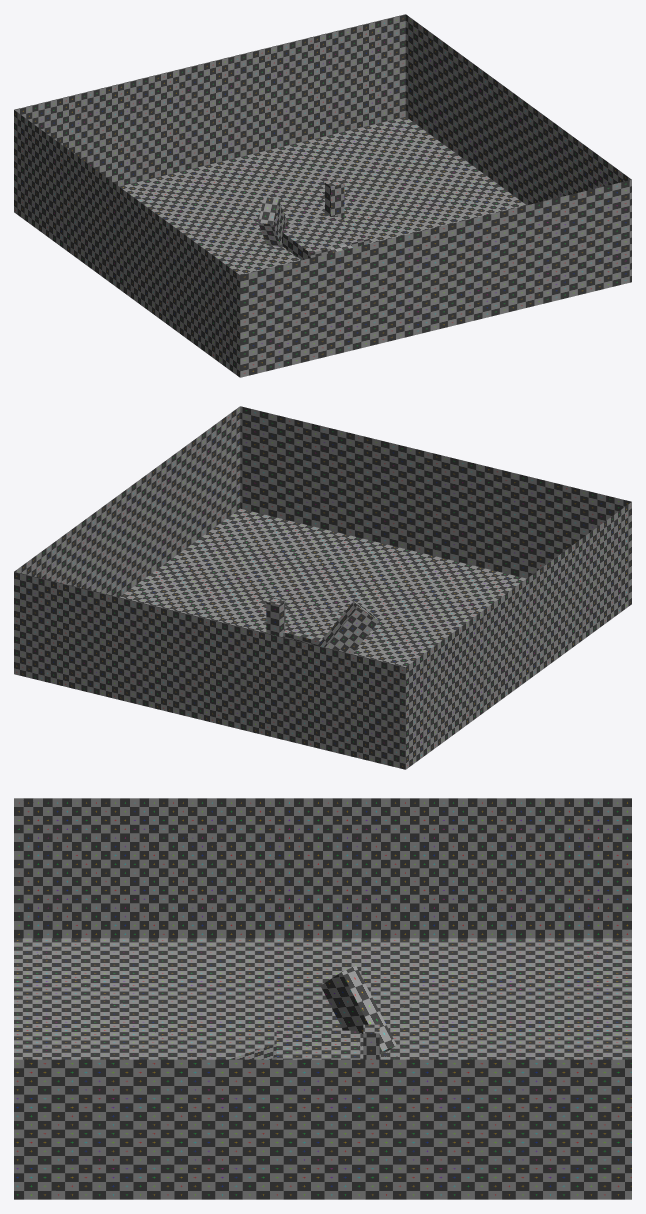
Rendered from map_test_control.gltf.
3 renders of one model, top to bottom at view 1: azimuth 30°, elevation 25°; view 2: azimuth 150°, elevation 25°; view 3: azimuth 270°, elevation 25°, orthographic. The views are drawn at different scales.
Visible parts, largest first — view 1: Cube; view 2: Cube; view 3: Cube.
Part boxes in pixels (bbox=[...]): Cube: bbox=[14, 14, 631, 377]; Cube: bbox=[14, 406, 631, 769]; Cube: bbox=[14, 798, 631, 1199].
Size of the model in its own units: 600 by 150 by 600.
Materials: 1 (1 with a texture image).
